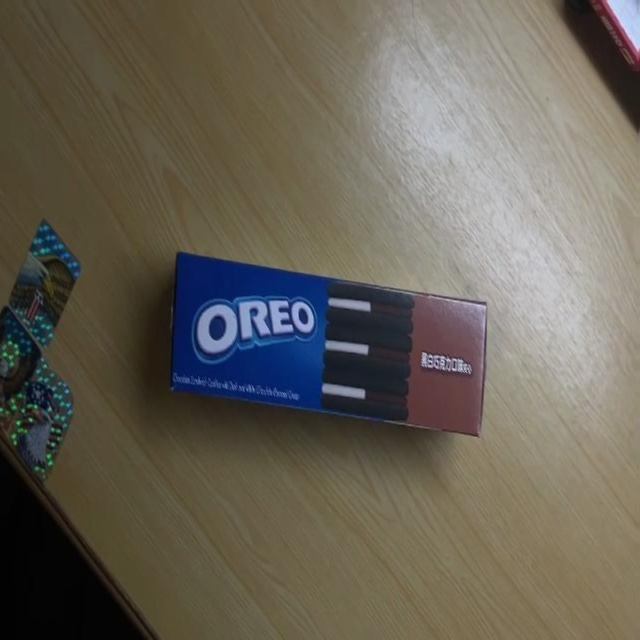Oreo: (168, 249, 492, 441)
